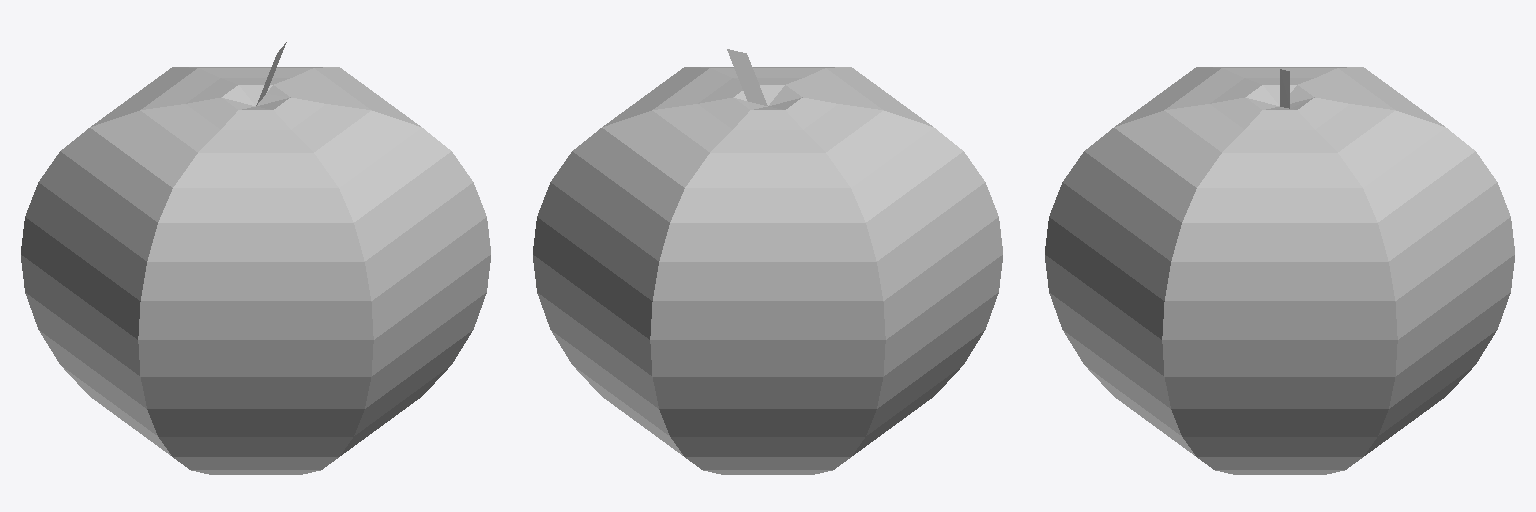
The model's file is apple.obj.
3 views of the same model, side by side, from view 1: azimuth 30°, elevation 25°; view 2: azimuth 150°, elevation 25°; view 3: azimuth 270°, elevation 25° (orthographic).
Visible parts, largest first — view 1: Sphere; view 2: Sphere; view 3: Sphere.
Part boxes in pixels (x1,y1,x2,y2): Sphere: (21,42,490,474); Sphere: (533,49,1002,474); Sphere: (1045,67,1514,474).
Size of the model in its own units: 1.73 by 1.9 by 2.